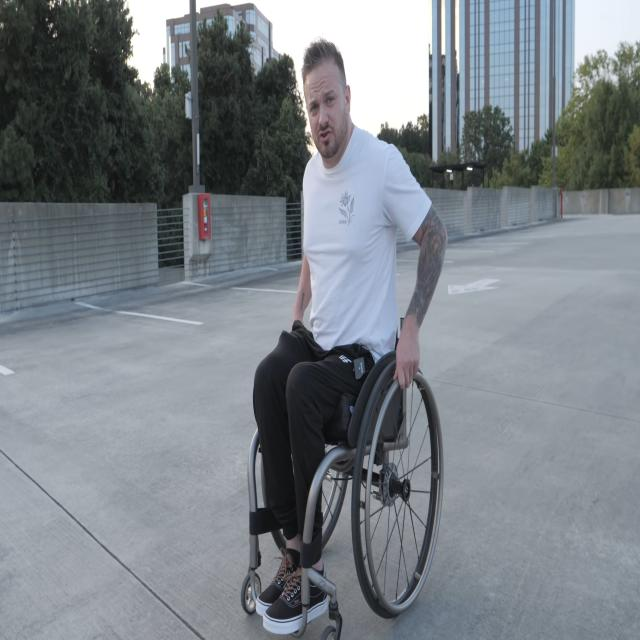wheelchairs: (241, 262, 445, 640)
